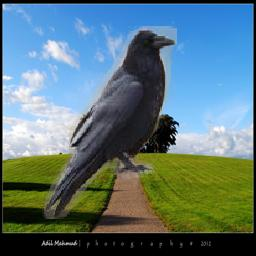Crow: (43, 27, 178, 220)
